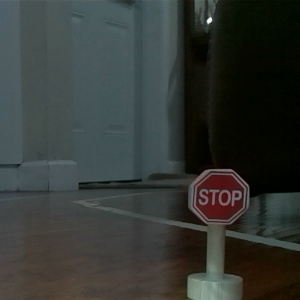stop sign: (183, 167, 252, 300)
